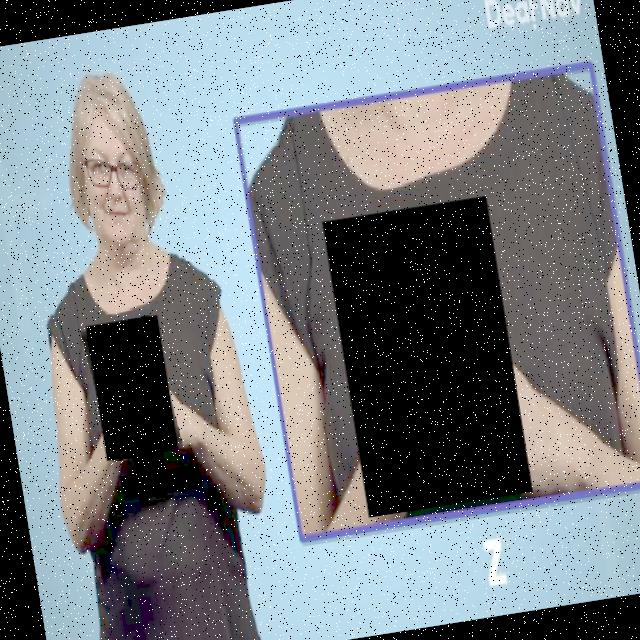Z: (324, 197, 535, 520), (84, 316, 183, 465)
